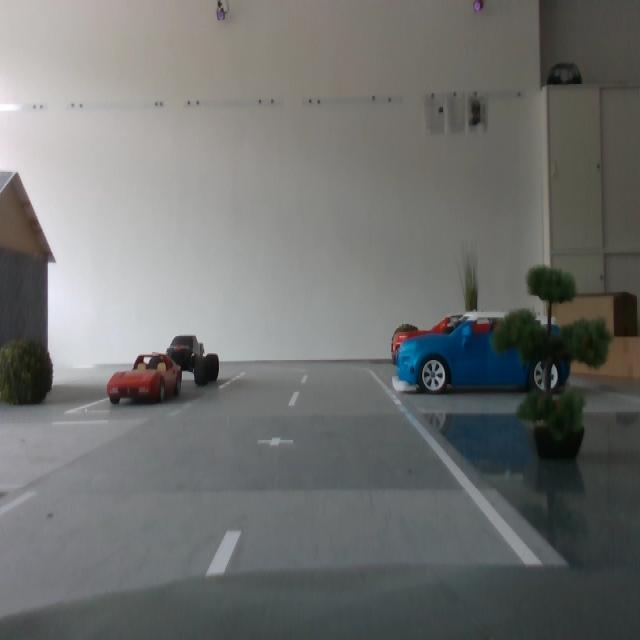car: (396, 311, 571, 395), (391, 315, 568, 390), (107, 353, 183, 405), (160, 332, 224, 388)
potted plant: (491, 265, 613, 465), (3, 331, 56, 412), (455, 244, 481, 358), (387, 321, 424, 367)
